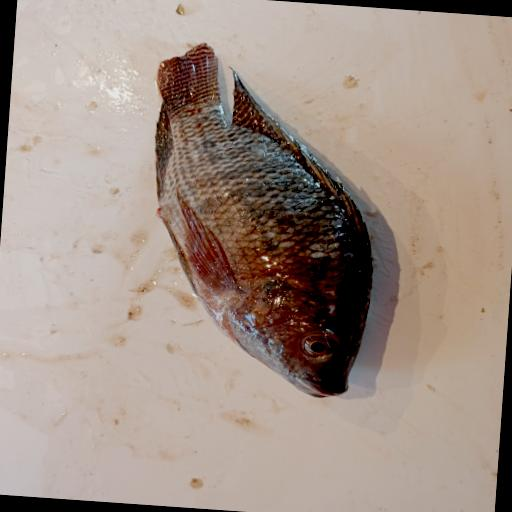Tilapia: (134, 40, 389, 402)
